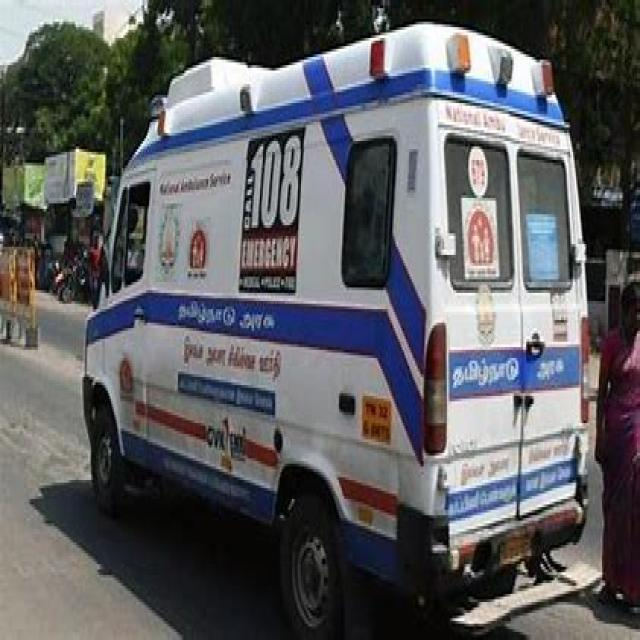Ambulance: (1, 284, 638, 637), (590, 280, 638, 615)
